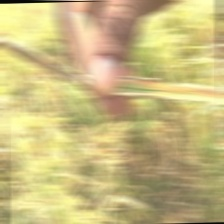Leaf_Blast: (6, 29, 222, 119)
